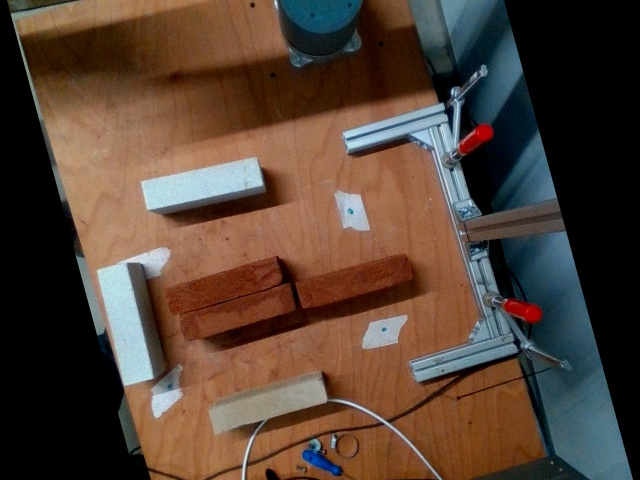brick-side: (177, 284, 298, 343), (164, 257, 282, 313), (97, 266, 152, 386), (208, 379, 327, 433), (139, 158, 262, 210), (295, 255, 412, 309)
